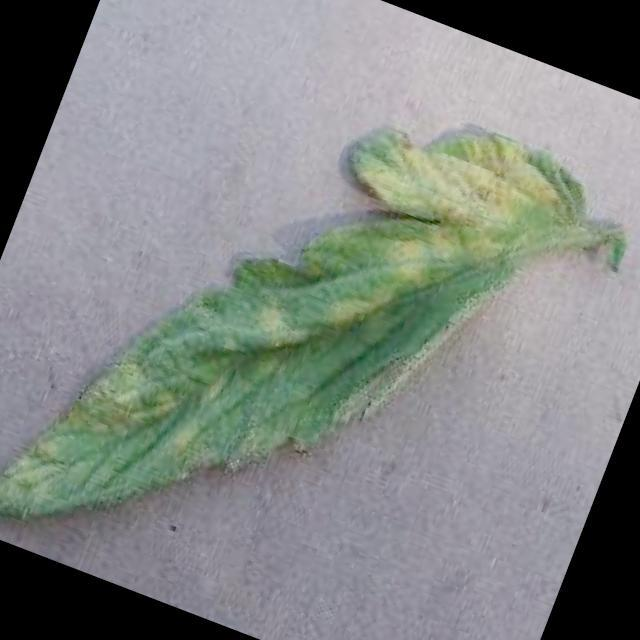Tomato mold leaf: (0, 7, 608, 640)
